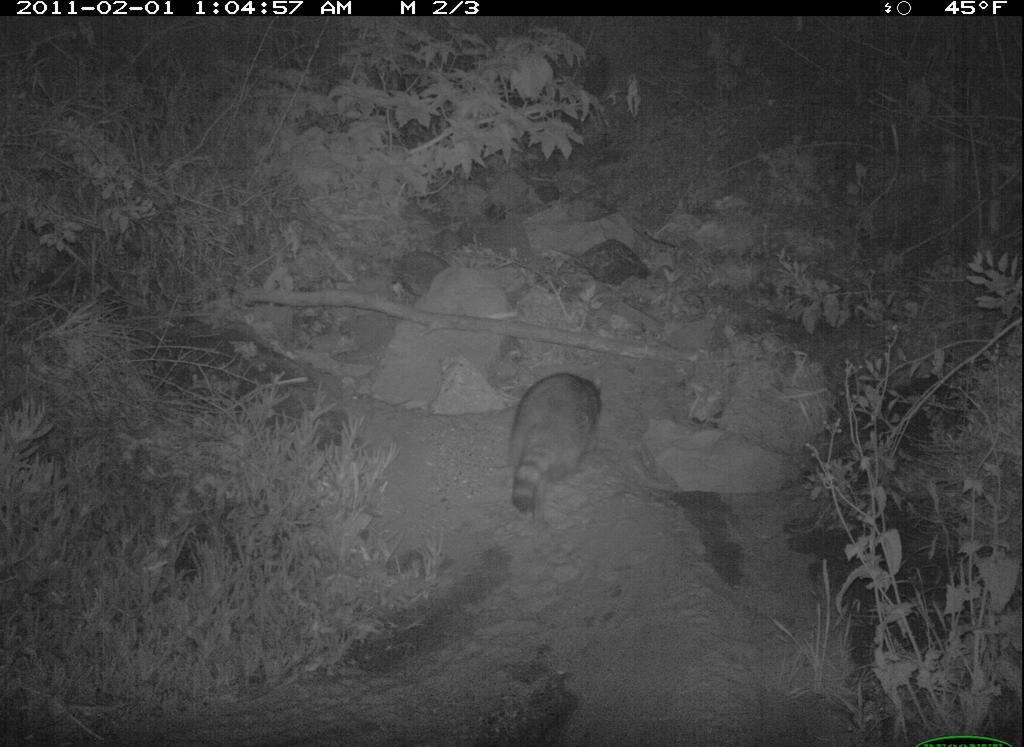raccoon: (501, 365, 609, 523)
